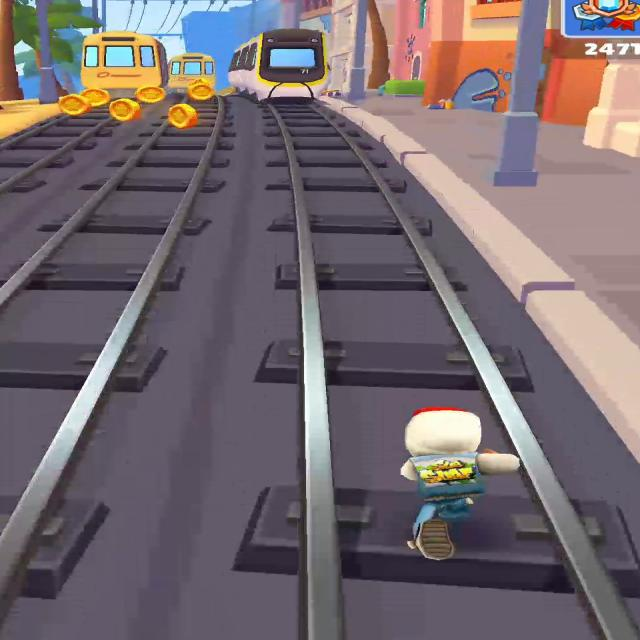train: (228, 28, 331, 102), (81, 31, 169, 99), (167, 53, 215, 93)
